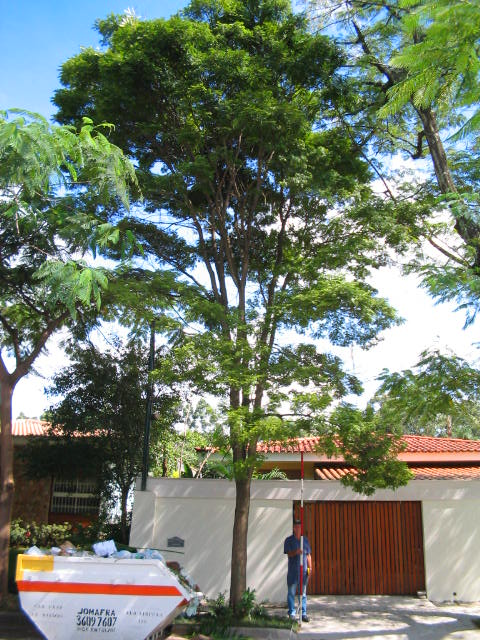crown: (56, 5, 433, 332)
stem: (222, 459, 263, 622)
stick: (294, 451, 308, 626)
tree: (52, 1, 436, 622)
